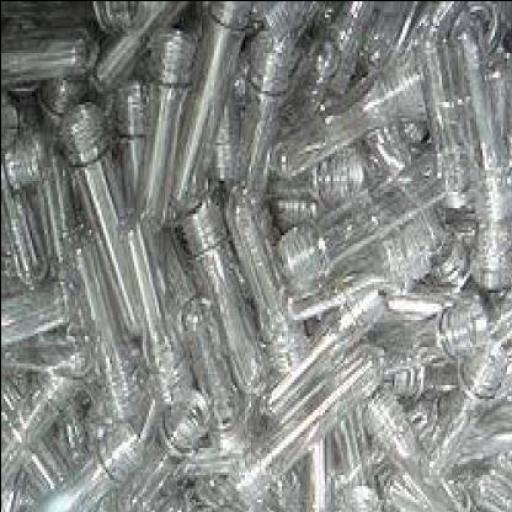plastic: (1, 1, 511, 511), (264, 30, 433, 185), (220, 346, 387, 496), (420, 21, 510, 292), (59, 106, 154, 340), (180, 199, 270, 403), (172, 2, 252, 220), (58, 231, 144, 431), (370, 125, 472, 286), (260, 286, 382, 419), (258, 310, 387, 425), (282, 182, 410, 297), (228, 188, 305, 378), (364, 389, 480, 511), (412, 346, 510, 485), (135, 28, 199, 237), (108, 384, 212, 511), (122, 232, 192, 406), (230, 27, 297, 196), (14, 428, 144, 511), (418, 22, 473, 216), (186, 294, 250, 458), (2, 354, 72, 495), (94, 2, 195, 98), (2, 384, 82, 490), (385, 299, 490, 371), (2, 137, 50, 294), (31, 152, 80, 275), (313, 3, 377, 95), (2, 26, 98, 84), (428, 3, 510, 68), (2, 324, 94, 381), (2, 278, 68, 357), (364, 2, 428, 74), (467, 373, 511, 474), (2, 136, 60, 196), (256, 2, 318, 50), (328, 414, 370, 482), (458, 459, 511, 511), (388, 362, 456, 400), (2, 3, 94, 30), (40, 79, 90, 128), (88, 3, 156, 38), (192, 471, 249, 511), (331, 471, 384, 511), (378, 468, 423, 510), (487, 292, 511, 358), (2, 96, 26, 158), (2, 87, 47, 101)
